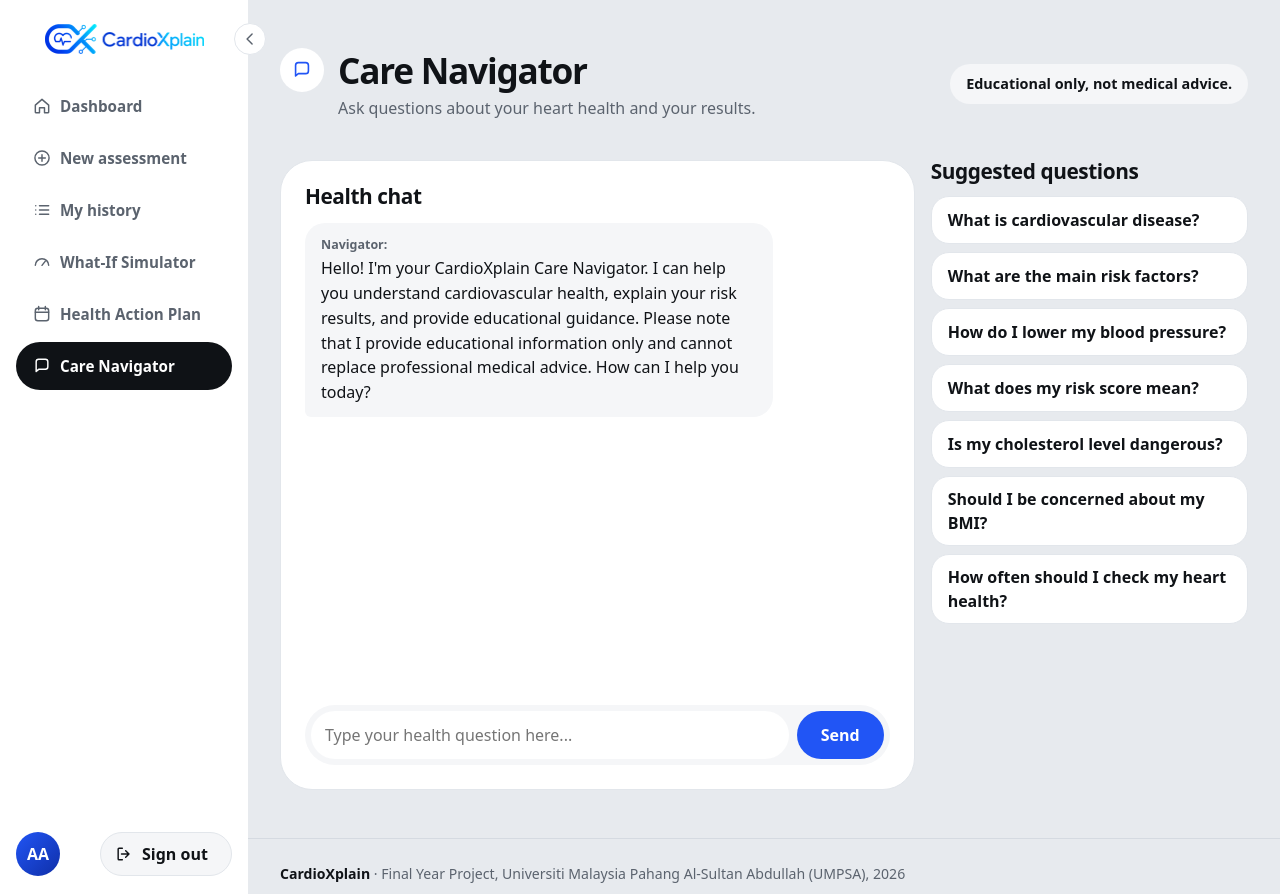
Test: suggested question is sent on click
Click the button "How do I lower my blood pressure?" at (1089, 332), box [931,308,1248,356]
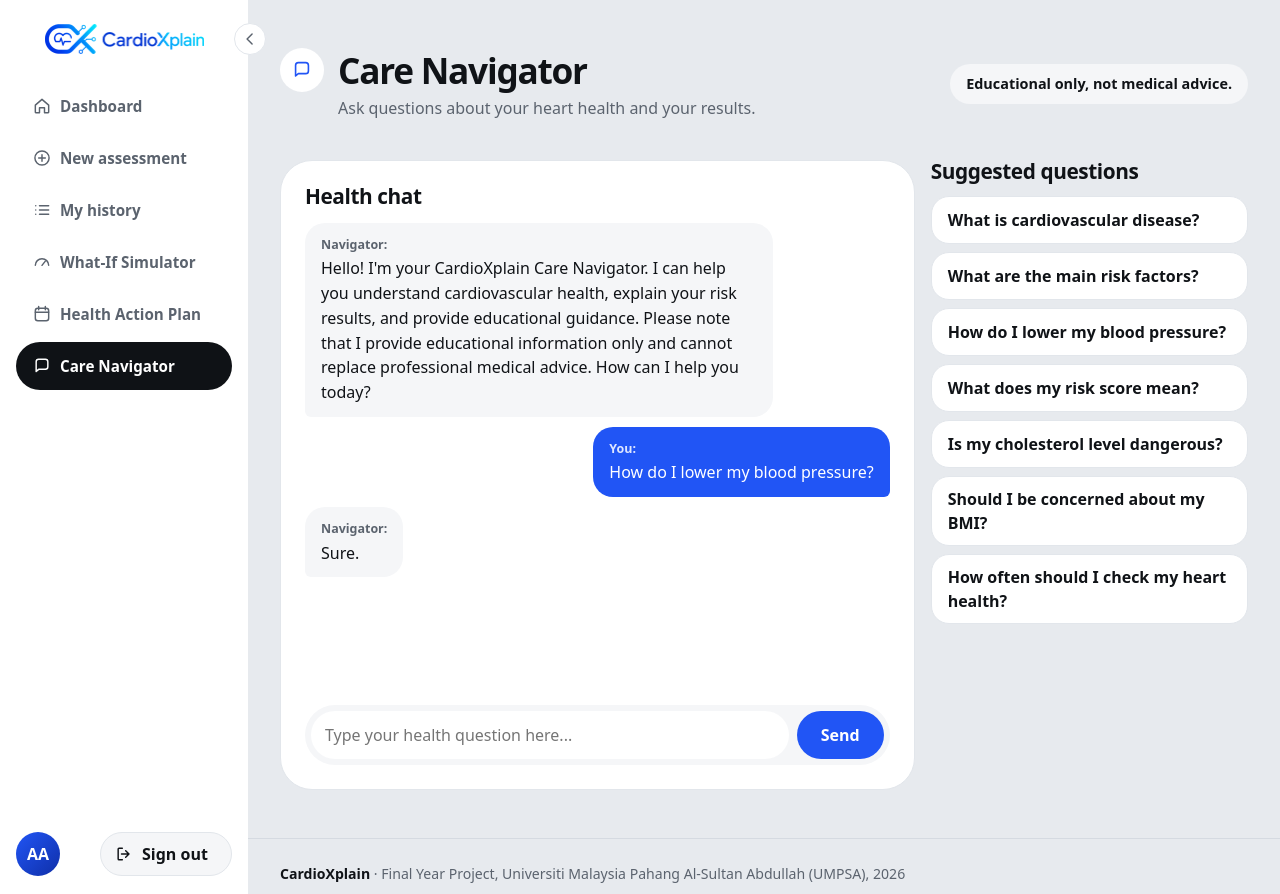
Expected: the text "Sure." is shown, [321,542,359,564]
